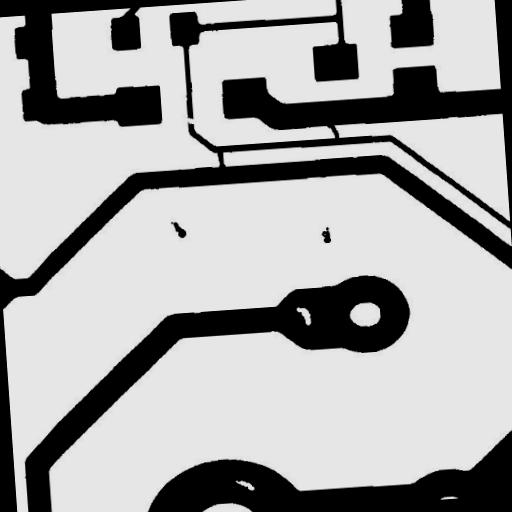copper: (162, 212, 194, 246), (312, 218, 338, 251)
open: (176, 110, 204, 132)
pin-hole: (288, 298, 319, 334), (228, 470, 262, 500)
short: (208, 140, 234, 178), (318, 114, 347, 148)
